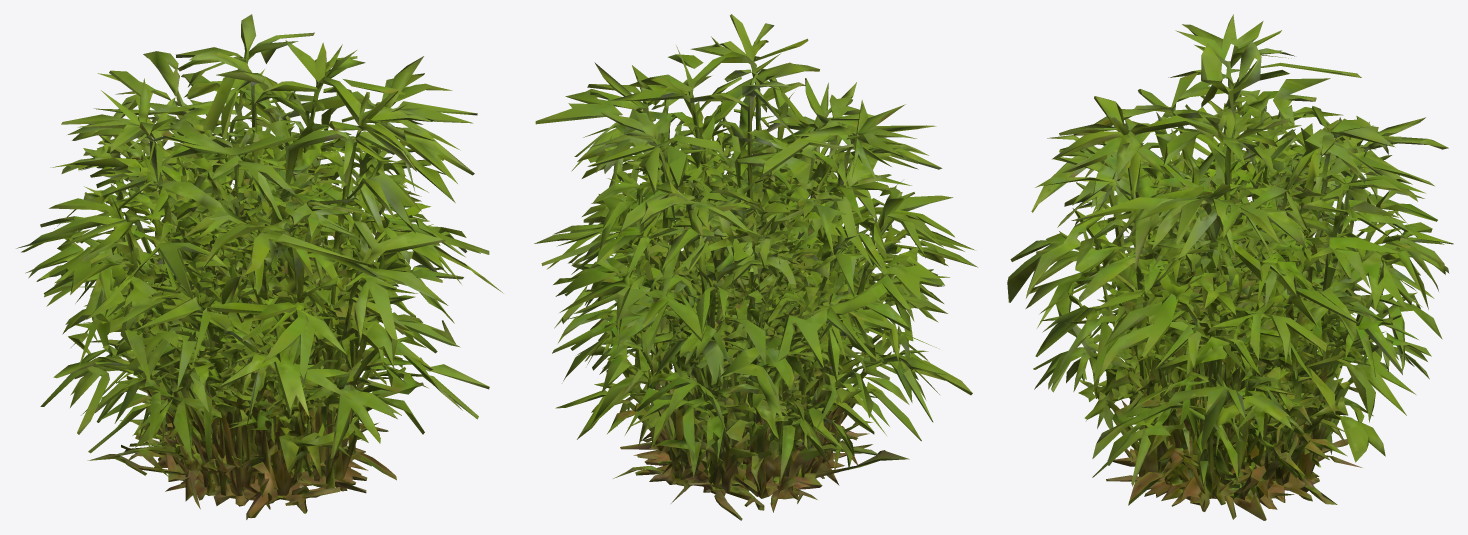
Rendered from bamboo.glb.
3 views of the same model, side by side, from view 1: azimuth 30°, elevation 25°; view 2: azimuth 150°, elevation 25°; view 3: azimuth 270°, elevation 25° (orthographic). The views are drawn at different scales.
Visible parts, largest first — view 1: geometry_0; view 2: geometry_0; view 3: geometry_0.
Part boxes in pixels (x1,y1,x2,y2): geometry_0: [16, 14, 503, 519]; geometry_0: [534, 14, 977, 520]; geometry_0: [1007, 14, 1453, 520].
Size of the model in its own units: 1.51 by 1.49 by 1.5.
Materials: 1 (1 with a texture image).
